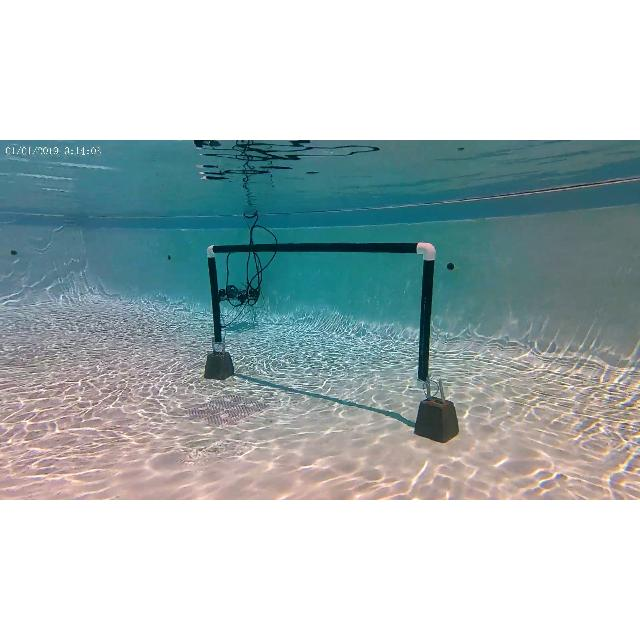prequal gate: (207, 242, 435, 390)
prequal gate leg l: (205, 241, 227, 353)
prequal gate leg r: (412, 241, 438, 393)
